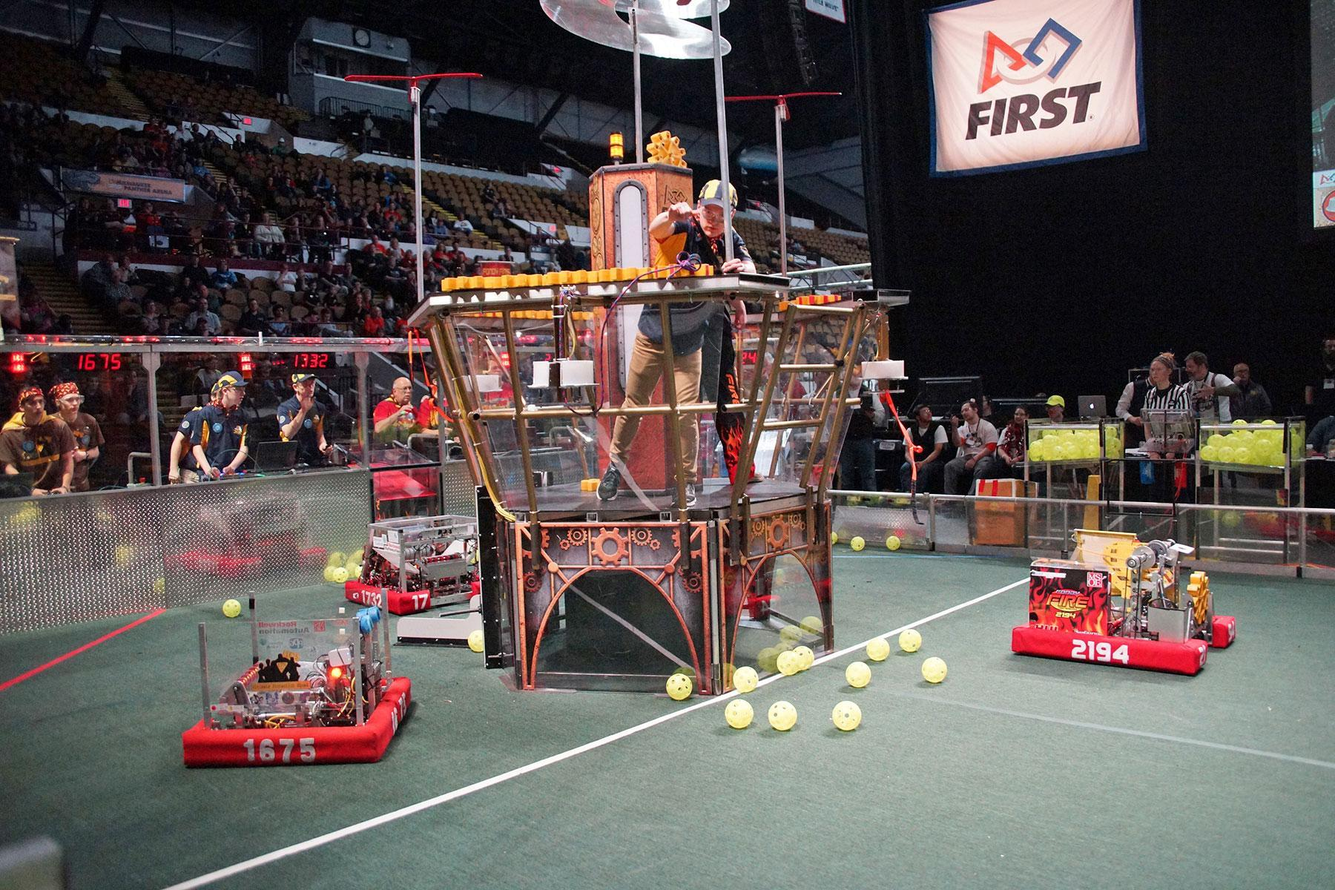robot: (169, 583, 418, 773), (1005, 517, 1244, 682), (340, 506, 506, 617)
